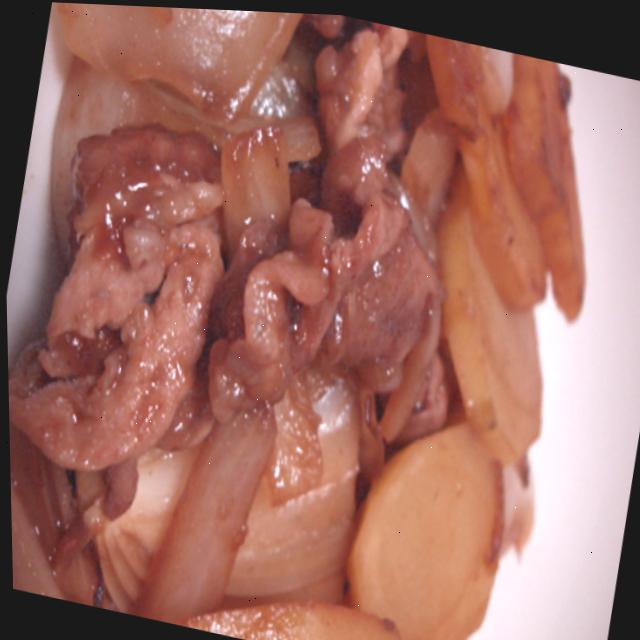猪肉菜式: (0, 0, 470, 559)
